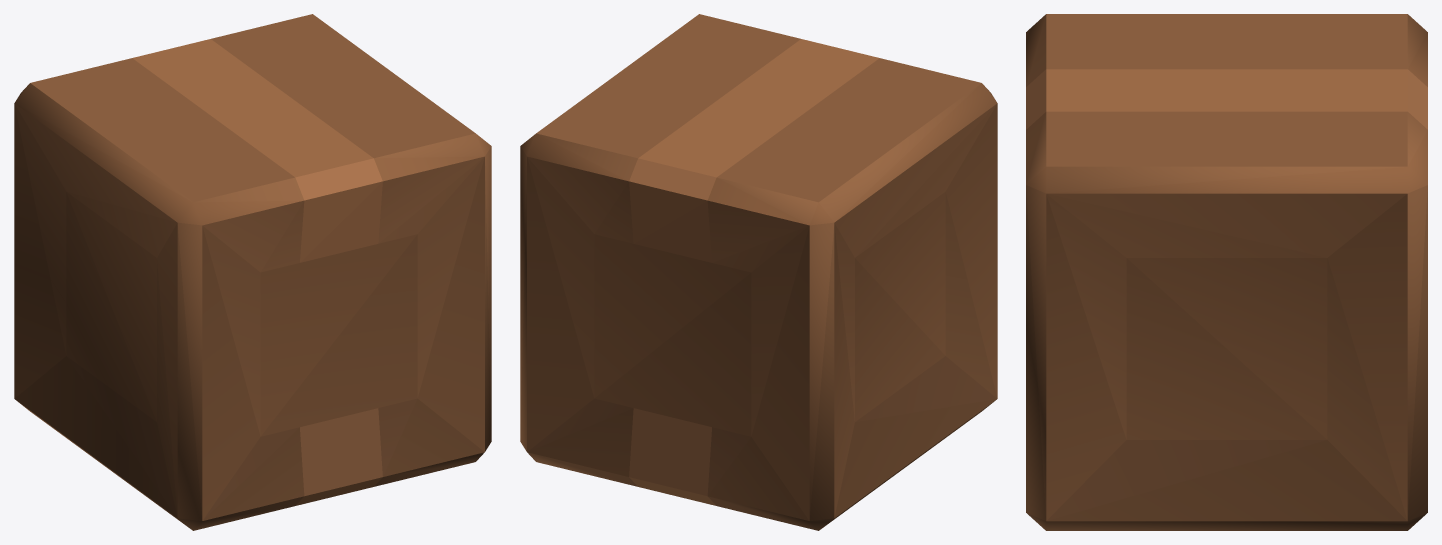
The model's file is kenney_survival_box.glb.
3 views of the same model, side by side, from view 1: azimuth 30°, elevation 25°; view 2: azimuth 150°, elevation 25°; view 3: azimuth 270°, elevation 25° (orthographic). The views are drawn at different scales.
Parts seen in each view (by area): view 1: wood; view 2: wood; view 3: wood.
Part boxes in pixels (bbox=[...]): wood: bbox=[14, 14, 491, 530]; wood: bbox=[520, 14, 997, 530]; wood: bbox=[1026, 14, 1427, 530].
Bounding box in the file's own units: 0.25 × 0.25 × 0.25.
